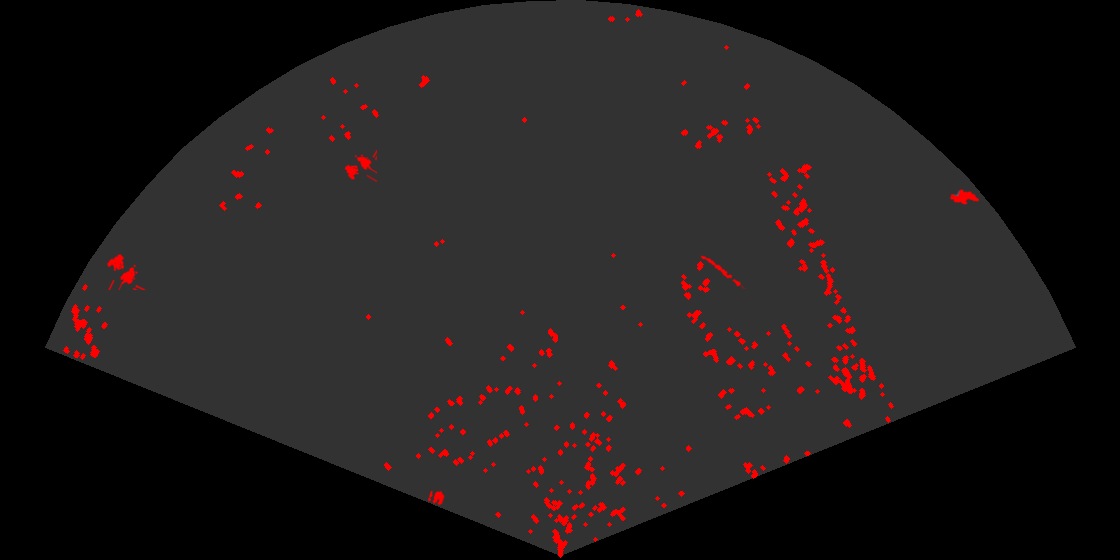AUV: (948, 188, 981, 206)
ball: (426, 489, 446, 507)
cage: (105, 252, 147, 290), (343, 148, 377, 184)
chain: (699, 254, 747, 289)
